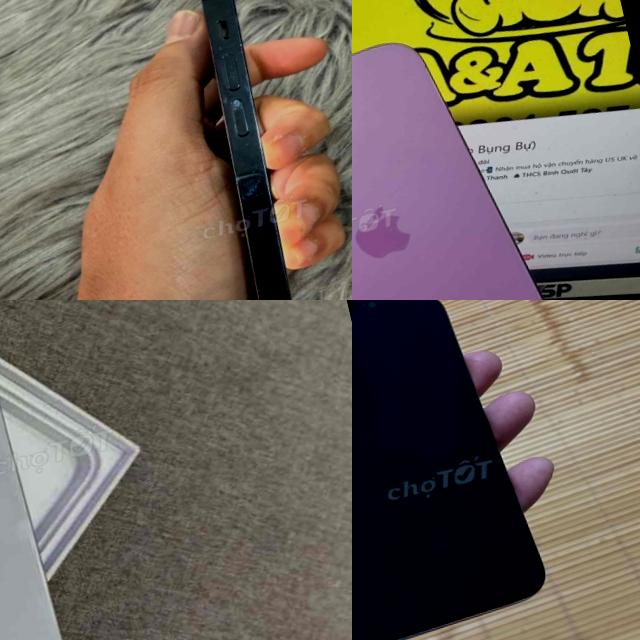scratch: (198, 18, 280, 208)
